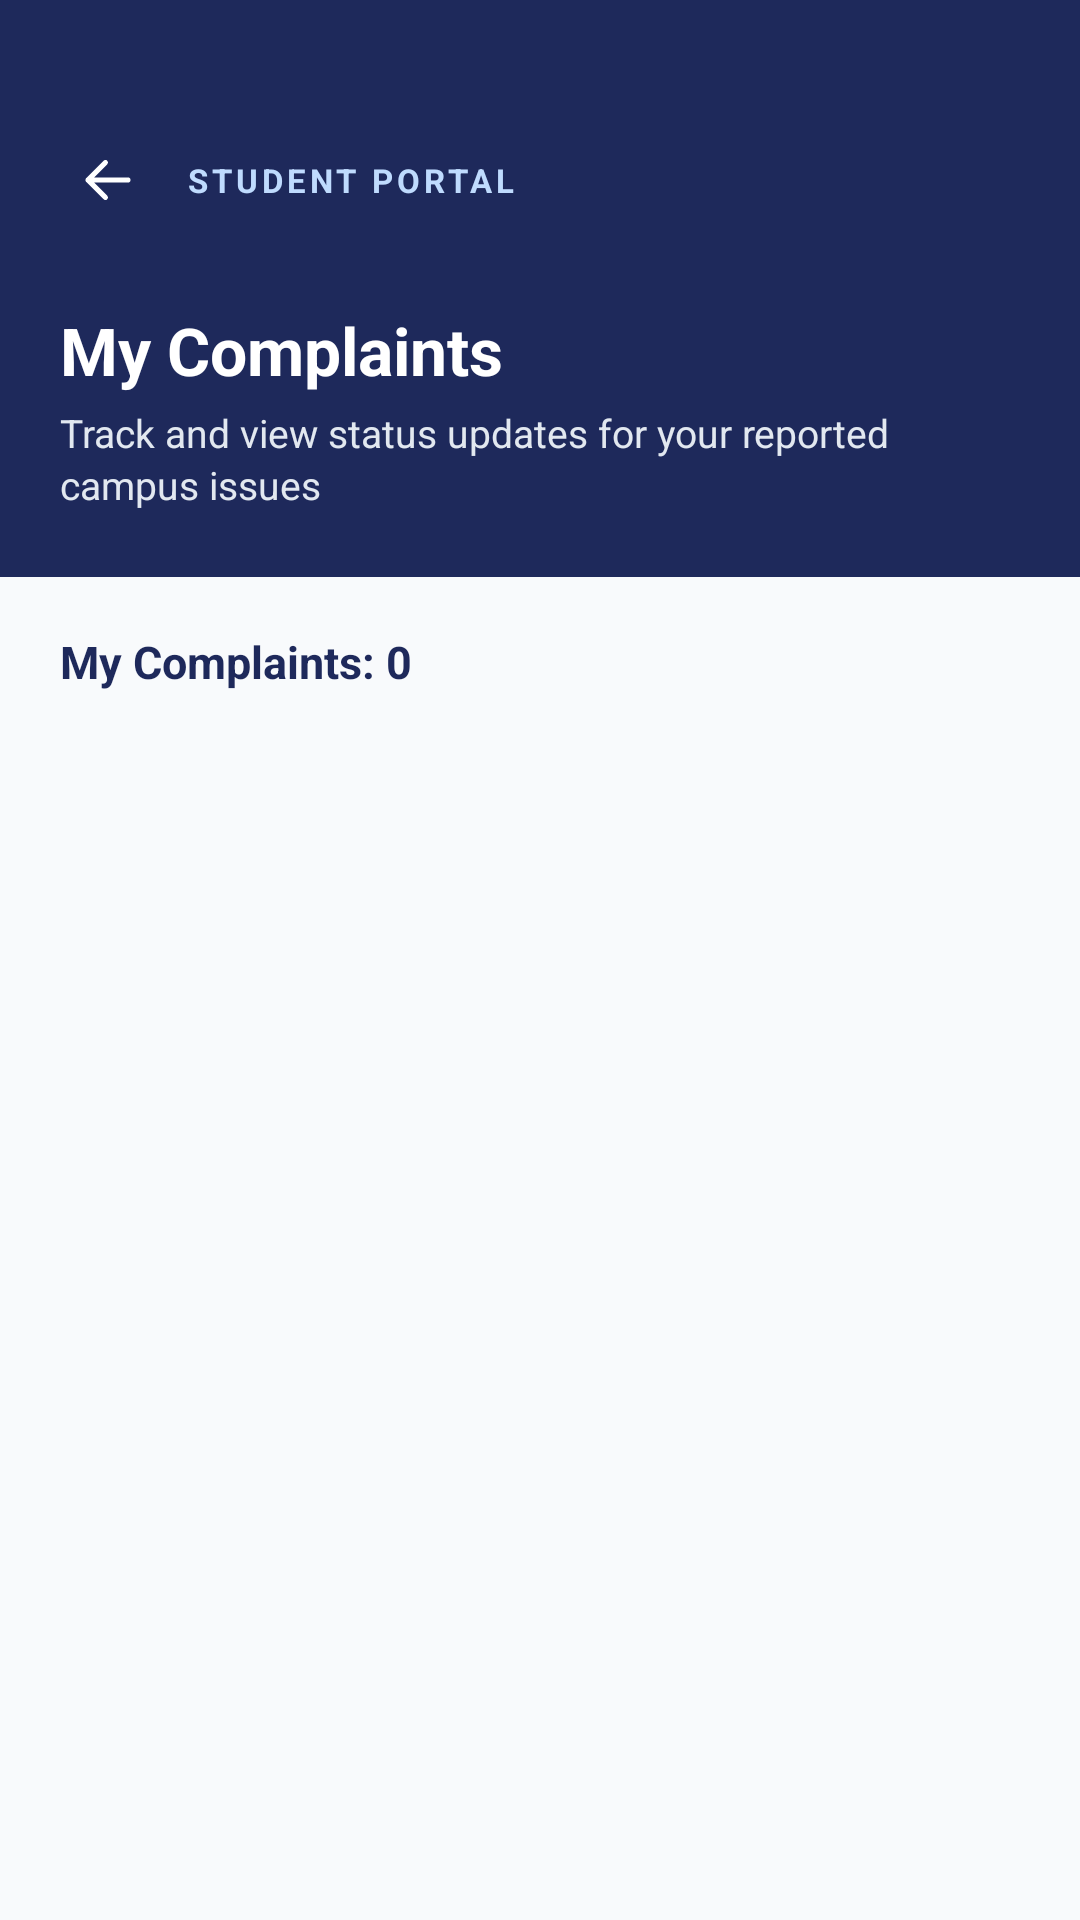

Where icons sit on this 1080x1920 app screen, as (x1,y1,x2,y2):
Back: (85,160,131,200)
